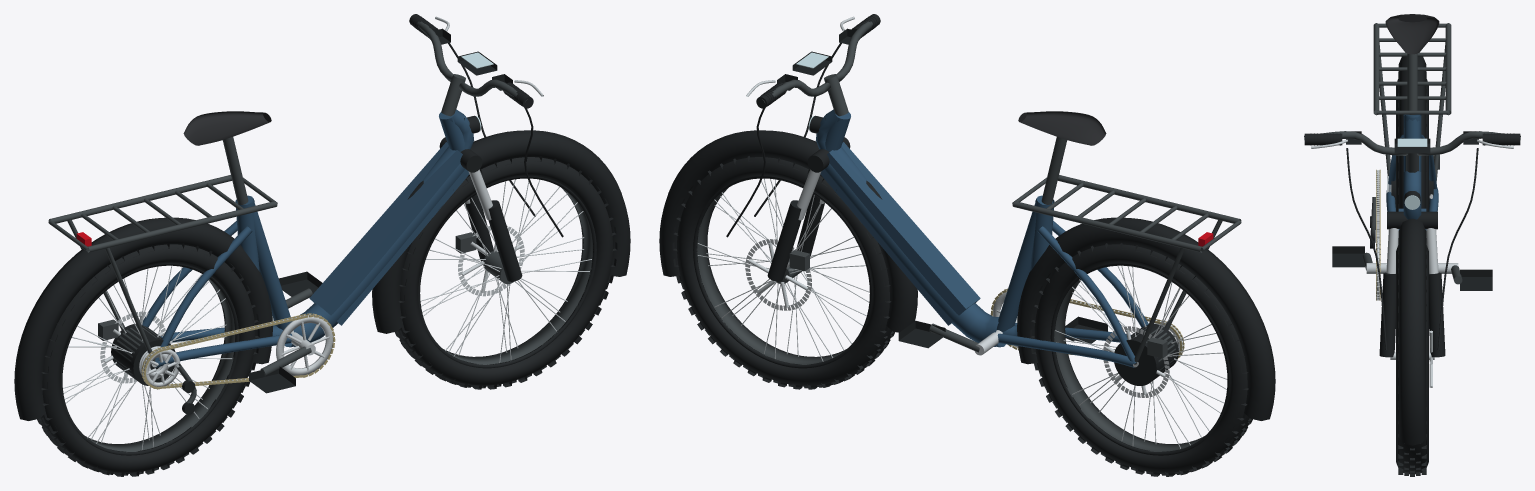
File: aventon-aventure-2.glb
3 views of the same model, side by side, from view 1: azimuth 30°, elevation 25°; view 2: azimuth 150°, elevation 25°; view 3: azimuth 270°, elevation 25° (orthographic). The views are drawn at different scales.
Visible parts, largest first — view 1: Bodywork | black, RearWheel | rubber, FrontWheel | rubber, BatteryMount | navy, Chassis | navy, Bodywork | graphite, FrontWheel | steel, FrontWheel | graphite, RearWheel | steel, RearWheel | graphite, Drive | steel, Fork | black (+11 smaller); view 2: Bodywork | black, RearWheel | rubber, FrontWheel | rubber, BatteryMount | navy, Chassis | navy, Bodywork | graphite, FrontWheel | steel, RearWheel | steel, FrontWheel | graphite, RearWheel | graphite, Fork | black, FrontWheel | black (+9 smaller); view 3: Bodywork | black, Bodywork | graphite, Fork | black, FrontWheel | rubber, Chassis | navy, Cockpit | rubber, Bodywork | seat, Drive | black, Cockpit | graphite, Fork | steel, Drive | steel, Cockpit | black (+7 smaller).
Part boxes in pixels (left/top/right/bottom): Bodywork | black: left=14, top=115, right=630, bottom=420; RearWheel | rubber: left=37, top=243, right=259, bottom=476; FrontWheel | rubber: left=394, top=156, right=617, bottom=389; BatteryMount | navy: left=284, top=142, right=469, bottom=347; Chassis | navy: left=142, top=109, right=474, bottom=367; Bodywork | graphite: left=48, top=175, right=277, bottom=361; FrontWheel | steel: left=420, top=179, right=591, bottom=362; FrontWheel | graphite: left=443, top=187, right=592, bottom=364; RearWheel | steel: left=63, top=265, right=232, bottom=449; RearWheel | graphite: left=86, top=279, right=234, bottom=452; Drive | steel: left=139, top=314, right=333, bottom=386; Fork | black: left=439, top=137, right=522, bottom=281; Bodywork | black: left=659, top=115, right=1275, bottom=420; RearWheel | rubber: left=1030, top=243, right=1252, bottom=476; FrontWheel | rubber: left=672, top=156, right=895, bottom=389; BatteryMount | navy: left=820, top=142, right=1005, bottom=347; Chassis | navy: left=815, top=109, right=1148, bottom=367; Bodywork | graphite: left=1012, top=175, right=1241, bottom=364; FrontWheel | steel: left=697, top=178, right=869, bottom=361; RearWheel | steel: left=1055, top=265, right=1227, bottom=448; FrontWheel | graphite: left=696, top=187, right=846, bottom=364; RearWheel | graphite: left=1054, top=279, right=1203, bottom=451; Fork | black: left=767, top=137, right=850, bottom=281; FrontWheel | black: left=693, top=176, right=871, bottom=368; Bodywork | black: left=1398, top=56, right=1426, bottom=445; Bodywork | graphite: left=1373, top=23, right=1451, bottom=180; Fork | black: left=1379, top=211, right=1445, bottom=357; FrontWheel | rubber: left=1396, top=238, right=1428, bottom=476; Chassis | navy: left=1386, top=114, right=1438, bottom=219; Cockpit | rubber: left=1304, top=133, right=1520, bottom=350; Bodywork | seat: left=1385, top=14, right=1439, bottom=54; Drive | black: left=1332, top=216, right=1492, bottom=290; Cockpit | graphite: left=1304, top=131, right=1520, bottom=172; Fork | steel: left=1386, top=228, right=1438, bottom=273; Drive | steel: left=1366, top=170, right=1458, bottom=300; Cockpit | black: left=1310, top=131, right=1514, bottom=153.
Size of the model in its own units: 2.06 by 1.07 by 0.6634.
